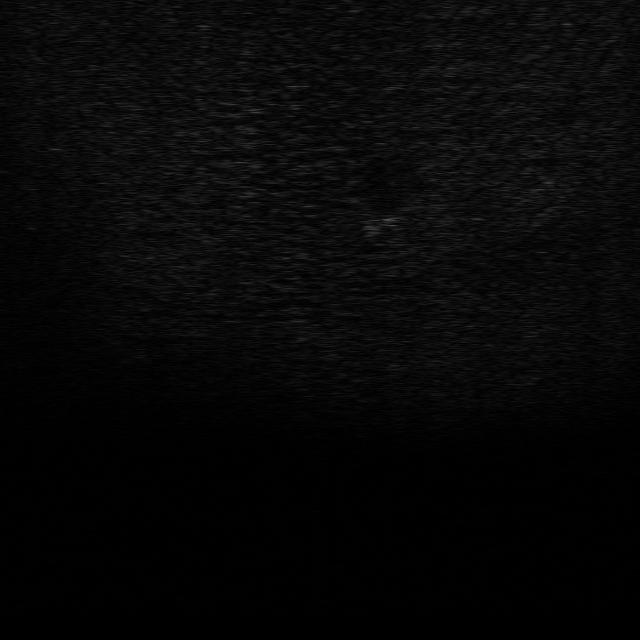plane: (352, 199, 418, 238)
